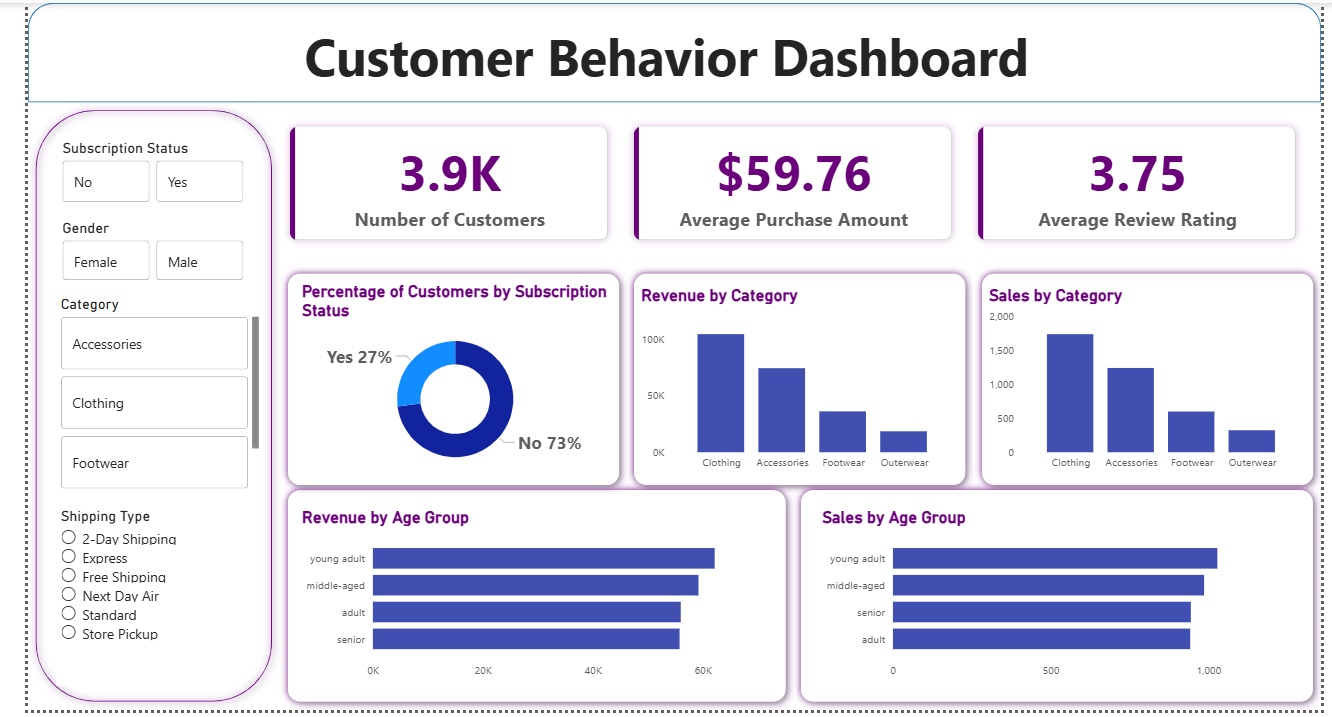

The dashboard page shown, as its layout file describes it:
{"tool":"powerbi","page":{"name":"Dashboard","canvas":[1500,820],"ordinal":0},"visuals":[{"type":"cardVisual","fields":{"Data":["public customer.Number of Customers","public customer.Average Purchase Amount","public customer.Average Review Rating"]},"box":[275.5,115.4,1224.5,188.4],"z":0},{"type":"shape","box":[0,0,1500,115.4],"z":1000},{"type":"textbox","box":[33,16.5,1448.2,98.9],"z":2000},{"type":"shape","box":[694.7,303.8,402.7,263.7],"z":3000},{"type":"clusteredColumnChart","title":"Revenue by Category","fields":{"Y":["Sum(public customer.purchase_amount)"],"Category":["public customer.category"]},"box":[706.5,327.3,372.1,223.7],"z":4000},{"type":"shape","box":[292,555.7,595.8,263.7],"z":5000},{"type":"shape","box":[1097.4,303.8,402.7,263.7],"z":6000},{"type":"clusteredColumnChart","title":"Sales by Category","fields":{"Y":["CountNonNull(public customer.customer_id)"],"Category":["public customer.category"]},"box":[1109.1,327.3,372.1,223.7],"z":7000},{"type":"shape","box":[0,115.4,292,704.1],"z":8000},{"type":"advancedSlicerVisual","fields":{"Values":["public customer.subscription_status"]},"box":[35.3,157.8,221.4,77.7],"z":9000},{"type":"advancedSlicerVisual","fields":{"Values":["public customer.gender"]},"box":[35.3,252,221.4,75.4],"z":10000},{"type":"advancedSlicerVisual","fields":{"Values":["public customer.category"]},"box":[33,339.1,240.2,228.4],"z":11000},{"type":"listSlicer","fields":{"Values":["public customer.shipping_type"]},"box":[33,584,207.2,207.2],"z":12000},{"type":"clusteredBarChart","title":"Revenue by Age Group","fields":{"Y":["Sum(public customer.purchase_amount)"],"Category":["public customer.age_group"]},"box":[313.2,584,548.7,207.2],"z":13000},{"type":"shape","box":[292,303.8,402.7,263.7],"z":14000},{"type":"donutChart","title":"Percentage of Customers by Subscription Status","fields":{"Category":["public customer.subscription_status"],"Y":["CountNonNull(public customer.customer_id)"]},"box":[313.2,322.6,365,228.4],"z":15000},{"type":"shape","box":[887.8,555.7,612.3,263.7],"z":16000},{"type":"clusteredBarChart","title":"Sales by Age Group","fields":{"Y":["CountNonNull(public customer.customer_id)"],"Category":["public customer.age_group"]},"box":[916,584,546.3,207.2],"z":17000}]}

Visuals, with their boxes in screenshot pixels (x1, y1, x2, y2), scaled from the page's 1500x820 canvas onto the 1332x717 screenshot:
cardVisual - public customer.Number of Customers x public customer.Average Purchase Amount: bbox(245, 101, 1331, 266)
shape: bbox(0, 0, 1331, 101)
textbox: bbox(29, 14, 1315, 101)
shape: bbox(617, 266, 974, 496)
"Revenue by Category" clusteredColumnChart: bbox(627, 286, 958, 482)
shape: bbox(259, 486, 788, 716)
shape: bbox(974, 266, 1331, 496)
"Sales by Category" clusteredColumnChart: bbox(985, 286, 1315, 482)
shape: bbox(0, 101, 259, 716)
advancedSlicerVisual - public customer.subscription_status: bbox(31, 138, 228, 206)
advancedSlicerVisual - public customer.gender: bbox(31, 220, 228, 286)
advancedSlicerVisual - public customer.category: bbox(29, 297, 243, 496)
listSlicer - public customer.shipping_type: bbox(29, 511, 213, 692)
"Revenue by Age Group" clusteredBarChart: bbox(278, 511, 765, 692)
shape: bbox(259, 266, 617, 496)
"Percentage of Customers by Subscription Status" donutChart: bbox(278, 282, 602, 482)
shape: bbox(788, 486, 1331, 716)
"Sales by Age Group" clusteredBarChart: bbox(813, 511, 1299, 692)
